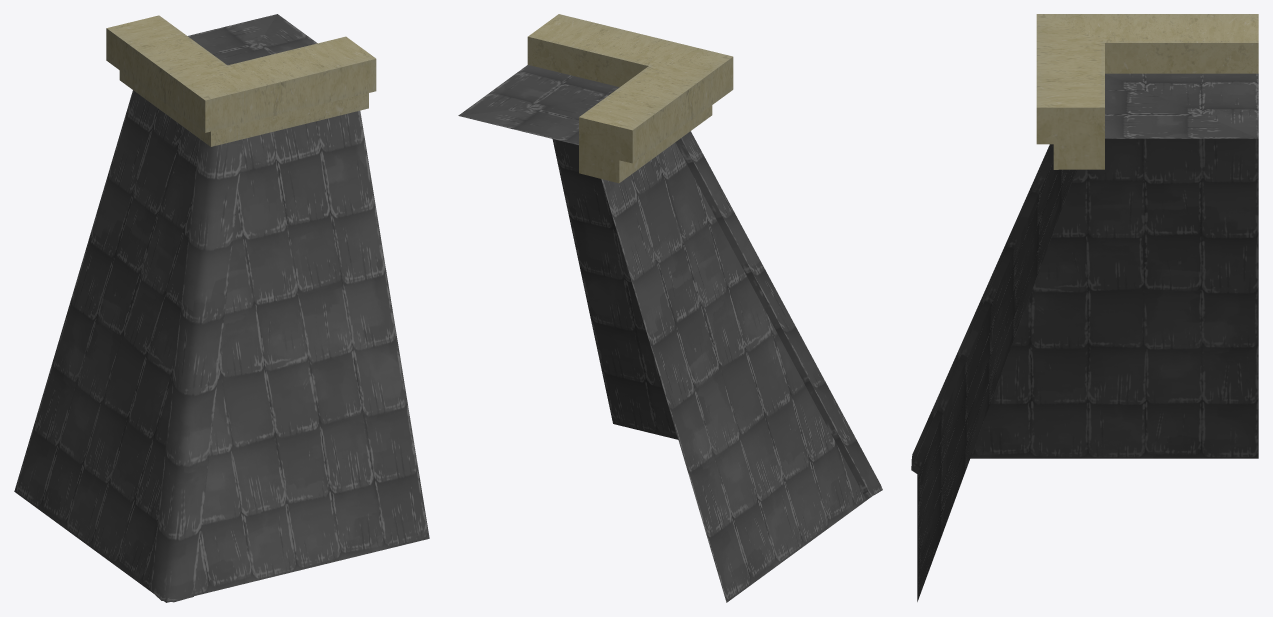
Rendered from roof_slate_cornice_corner.glb.
3 views of the same model, side by side, from view 1: azimuth 30°, elevation 25°; view 2: azimuth 150°, elevation 25°; view 3: azimuth 270°, elevation 25° (orthographic). The views are drawn at different scales.
Parts seen in each view (by area): view 1: Roof_SlateCornice_Corner; view 2: Roof_SlateCornice_Corner; view 3: Roof_SlateCornice_Corner.
Part boxes in pixels (left/top/right/bottom): Roof_SlateCornice_Corner: left=14, top=14, right=429, bottom=602; Roof_SlateCornice_Corner: left=458, top=14, right=882, bottom=602; Roof_SlateCornice_Corner: left=911, top=14, right=1258, bottom=601.
Bounding box in the file's own units: 2.02 × 3.21 × 2.03.
2 materials, 2 textured.
